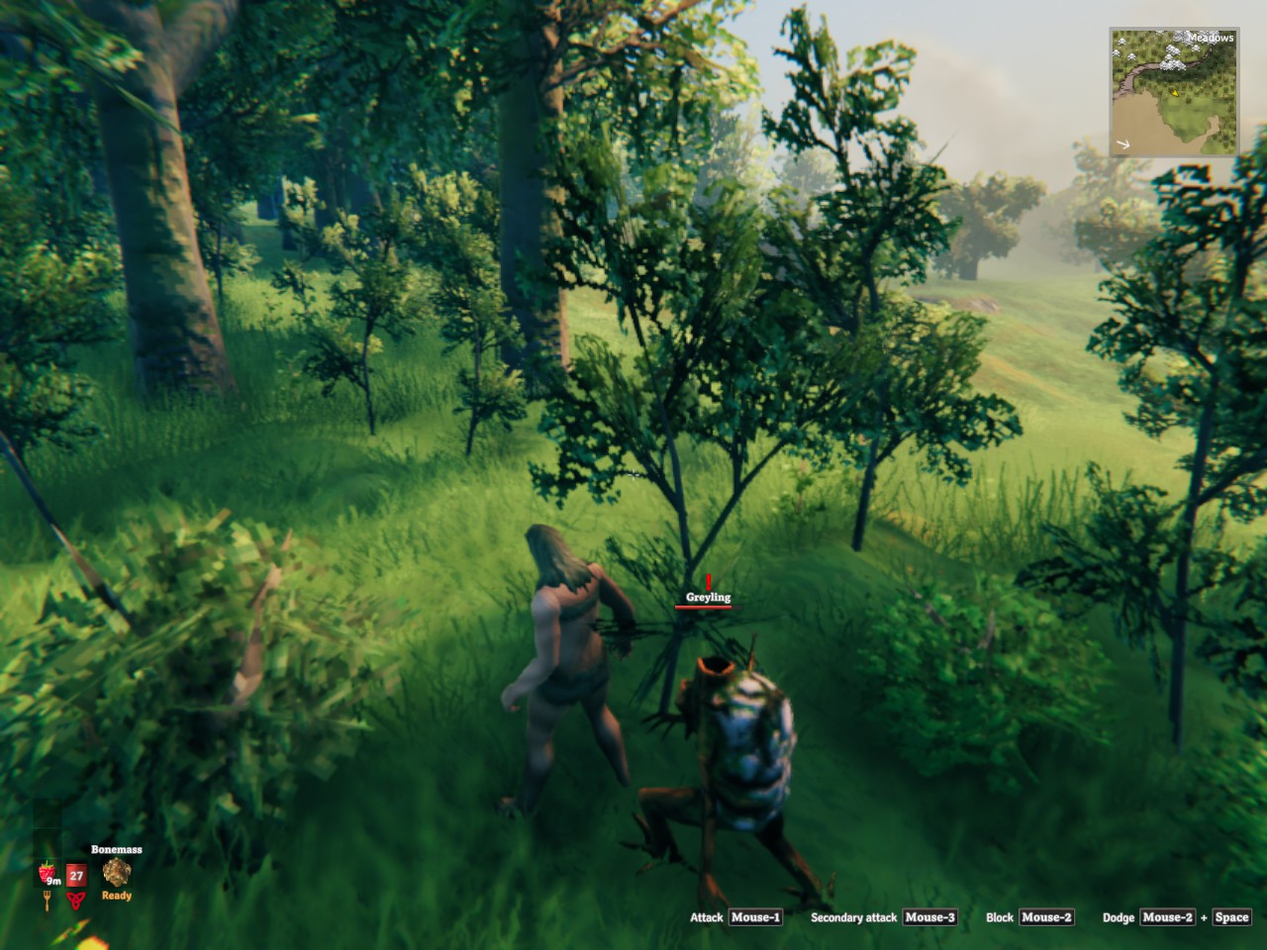Greyling: (624, 656, 828, 908)
